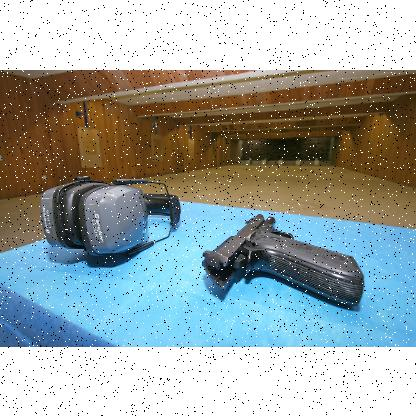gun: (200, 210, 362, 304)
